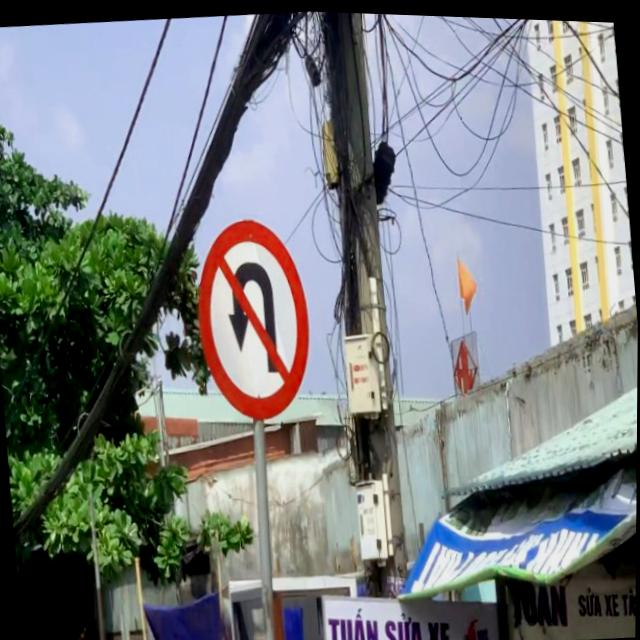Cam quay dau xe: (190, 211, 318, 424)
